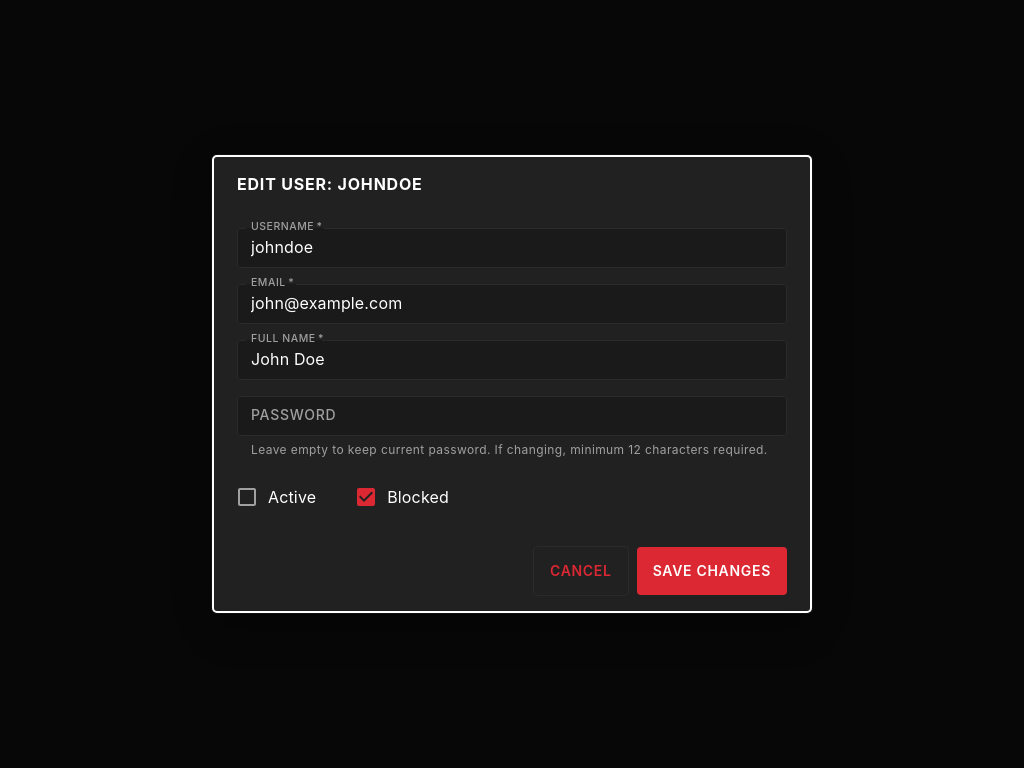
Scenario: EditUserModal › Deactivation warning › names both when reactivating and unblocking at once
This screenshot has width=1024, height=768.
Click the checkbox labelled "Active".
click(276, 497)  # box [235,485,316,509]
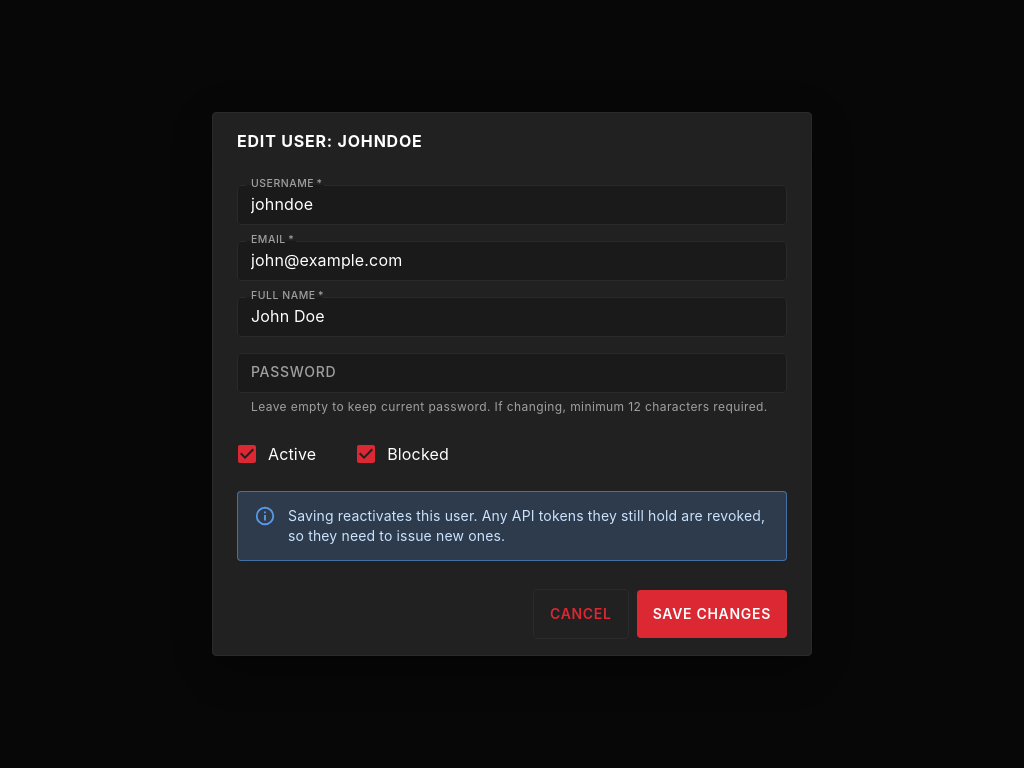
Click the checkbox labelled "Blocked".
click(402, 454)  # box [354,442,449,466]
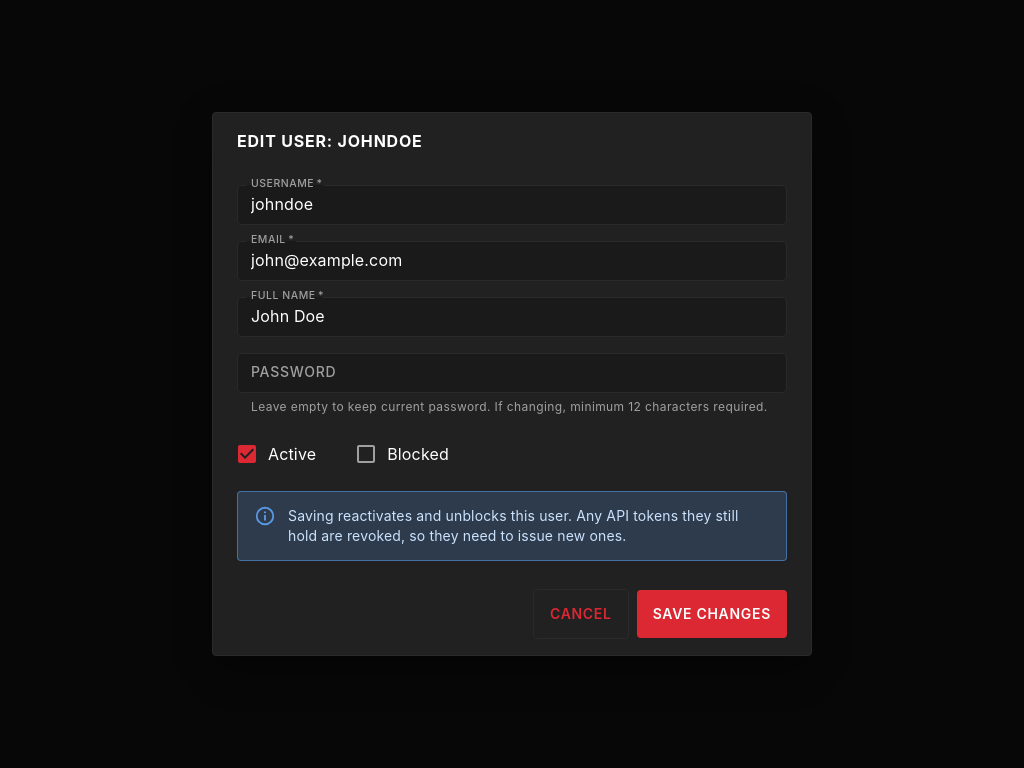
Now the text "reactivates and unblocks this user" is shown, box [288,507,738,544]
